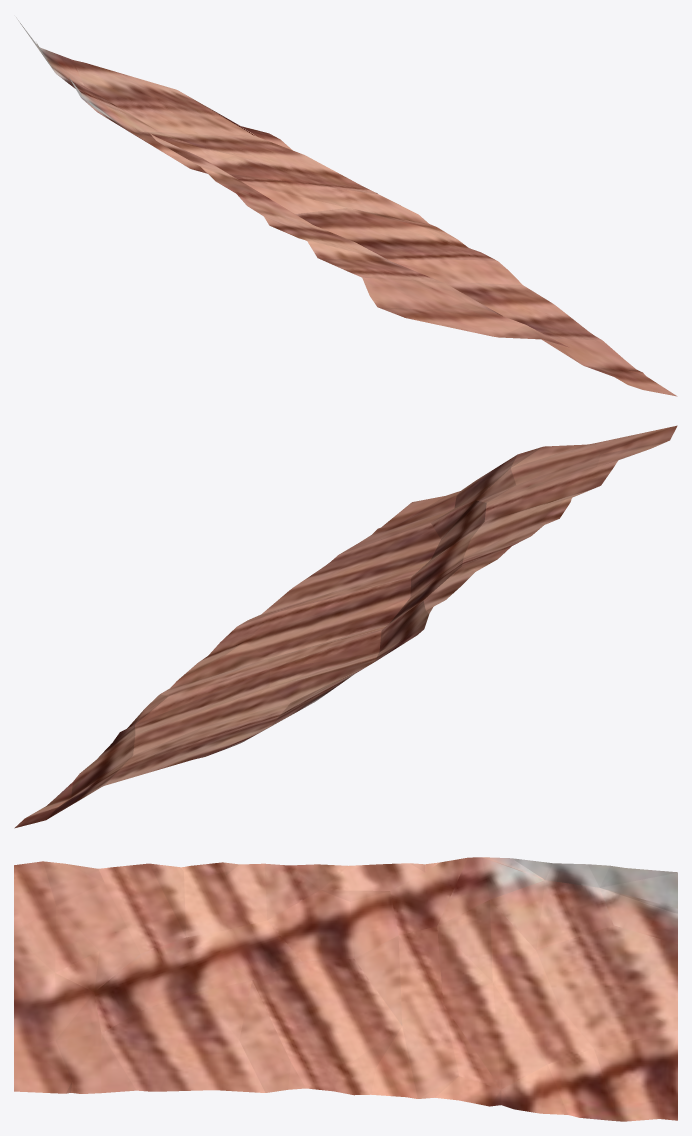
3 views of the same model, one above another, from view 1: azimuth 30°, elevation 25°; view 2: azimuth 150°, elevation 25°; view 3: azimuth 270°, elevation 25° (orthographic). The views are drawn at different scales.
Bounding box in the file's own units: 0.3468 × 0.2064 × 0.8373.
1 material, 1 textured.
